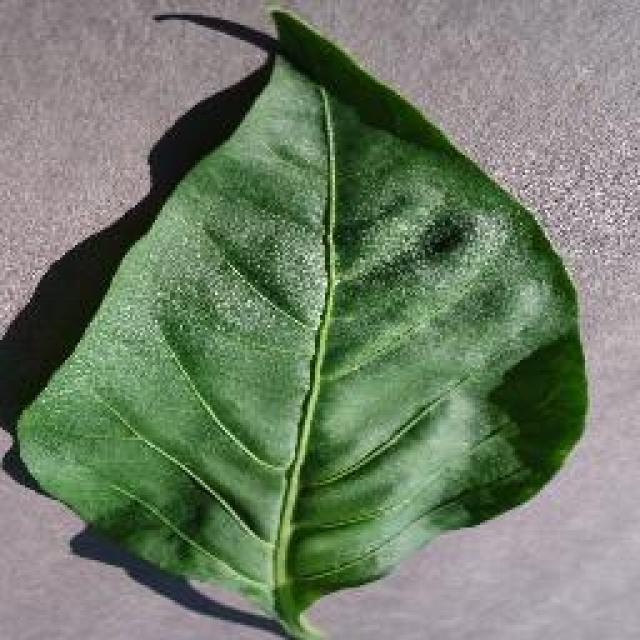Leaf: (14, 12, 593, 614)
